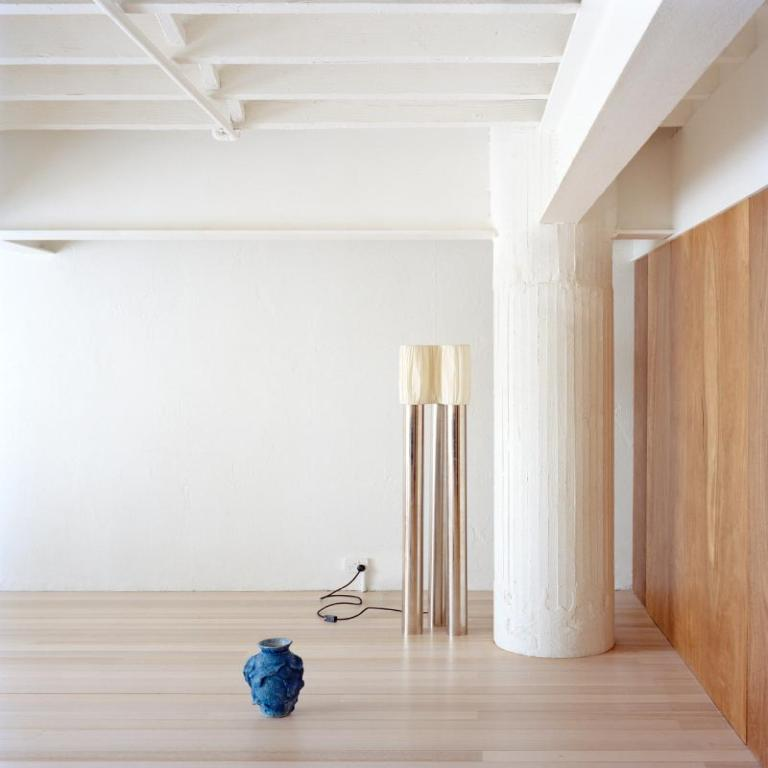white-walls: (19, 268, 457, 548)
